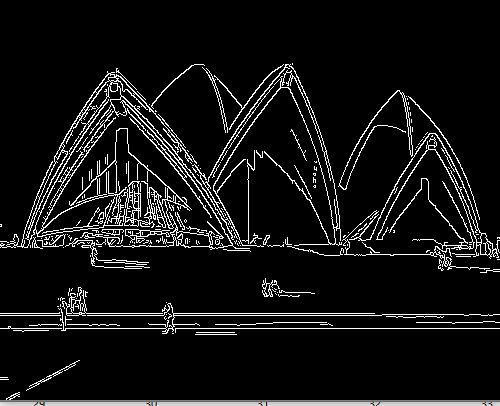opera house: (20, 28, 489, 253)
